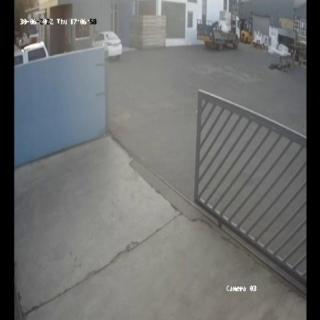car: (196, 11, 240, 48), (90, 31, 122, 58)
